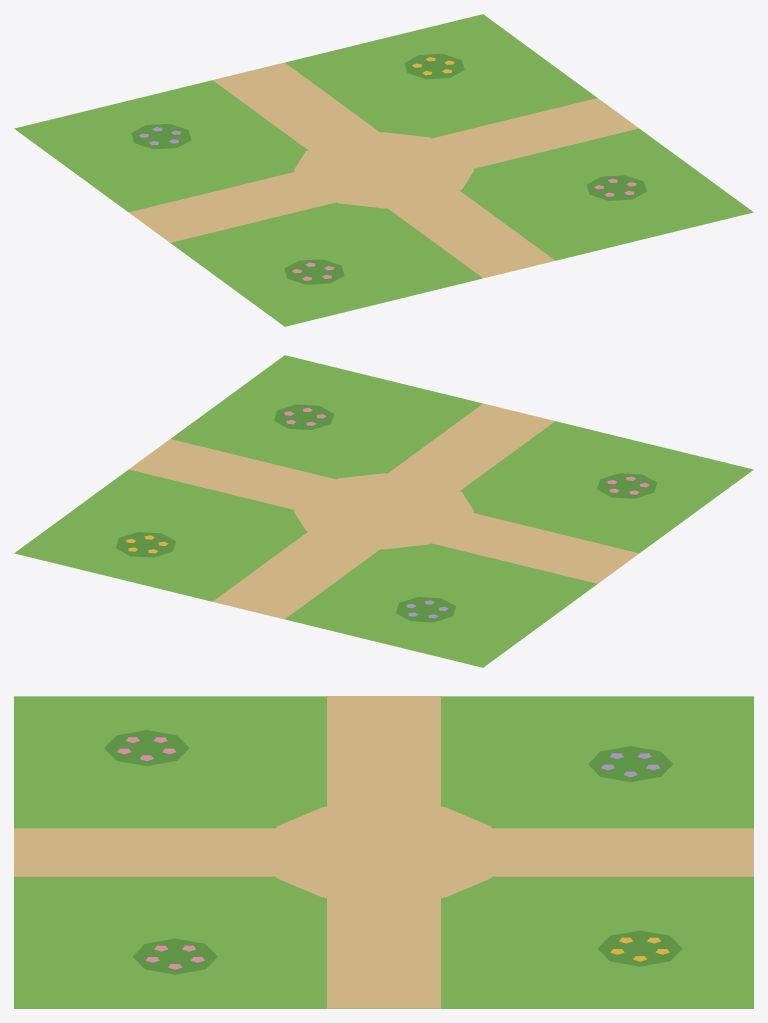
The model's file is L_Park.fbx.
3 views of the same model, one above another, from view 1: azimuth 30°, elevation 25°; view 2: azimuth 150°, elevation 25°; view 3: azimuth 270°, elevation 25° (orthographic). The views are drawn at different scales.
Parts seen in each view (by area): view 1: L_Park; view 2: L_Park; view 3: L_Park.
Part boxes in pixels (bbox=[...]): L_Park: bbox=[14, 14, 753, 326]; L_Park: bbox=[14, 355, 753, 667]; L_Park: bbox=[14, 696, 753, 1008].
Size of the model in its own units: 7.8 by 0.003 by 7.8.
